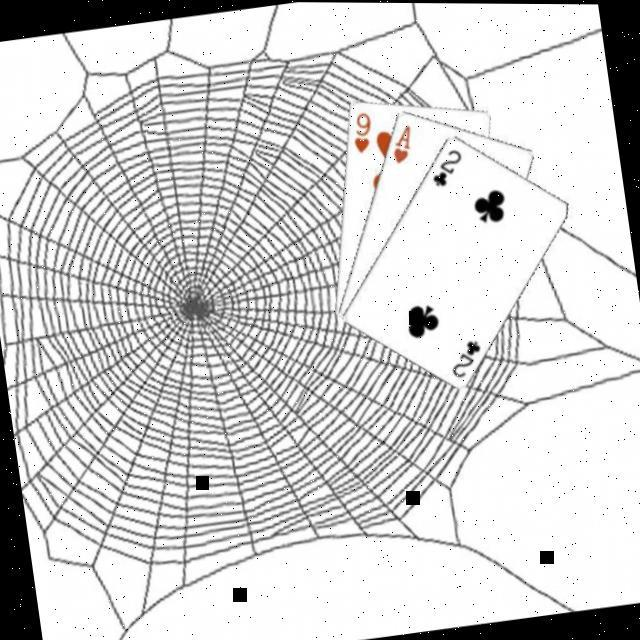2C: (443, 337, 486, 382), (424, 146, 466, 192)
9H: (344, 110, 376, 158)
AH: (384, 122, 416, 168)
